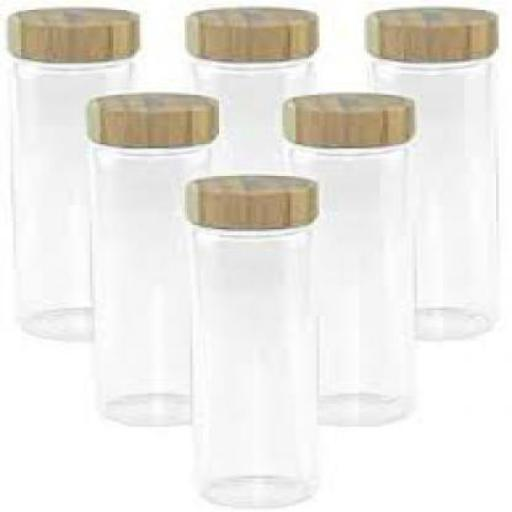glass: (280, 138, 417, 423), (362, 53, 496, 332), (84, 136, 211, 425), (190, 224, 317, 506), (8, 55, 132, 340), (184, 57, 314, 178)
